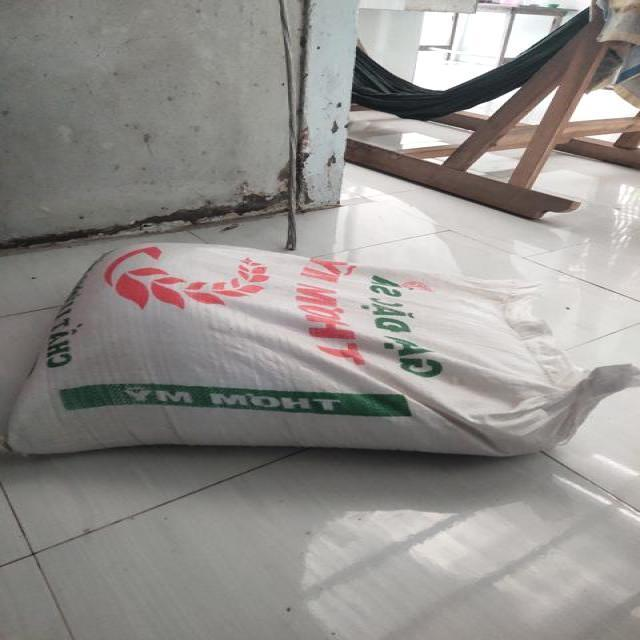gunny_bag: (7, 244, 639, 456)
